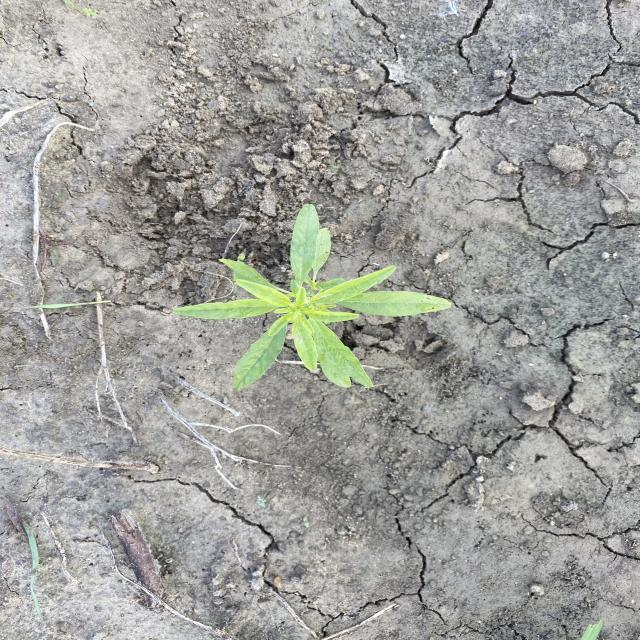Waterhemp: (169, 202, 454, 395)
